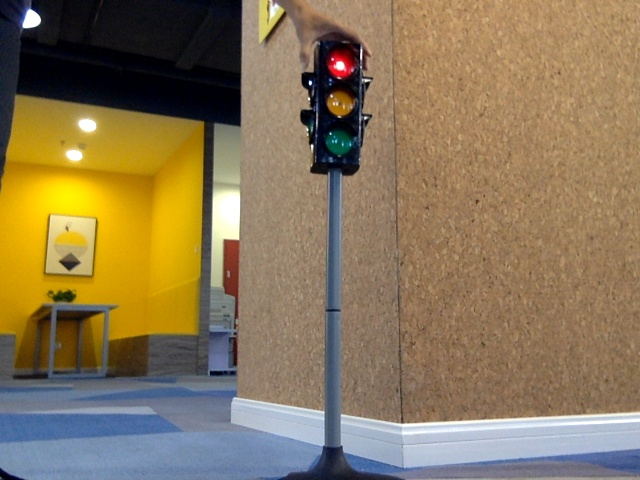red: (315, 43, 357, 166)
